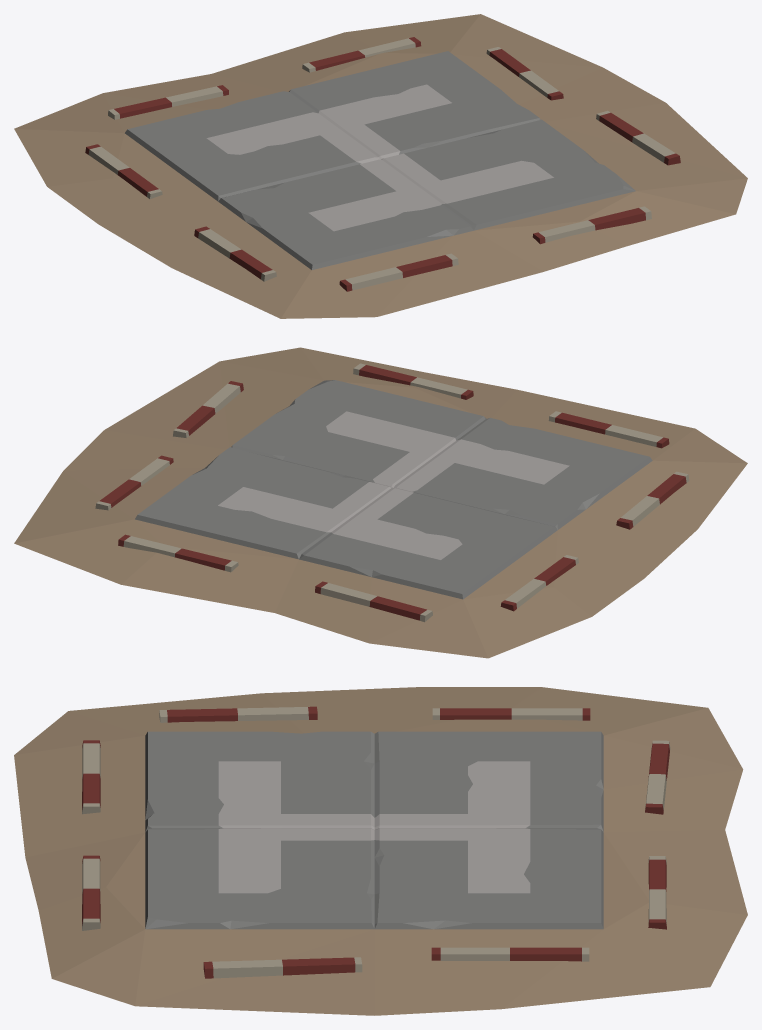
The model's file is SM_Env_Helipad_01.glb.
3 views of the same model, one above another, from view 1: azimuth 30°, elevation 25°; view 2: azimuth 150°, elevation 25°; view 3: azimuth 270°, elevation 25° (orthographic). The views are drawn at different scales.
Parts seen in each view (by area): view 1: SM_Env_Helipad_01; view 2: SM_Env_Helipad_01; view 3: SM_Env_Helipad_01.
Part boxes in pixels (bbox=[...]): SM_Env_Helipad_01: bbox=[14, 14, 747, 318]; SM_Env_Helipad_01: bbox=[14, 347, 747, 658]; SM_Env_Helipad_01: bbox=[14, 687, 747, 1015].
Size of the model in its own units: 30.52 by 0.7831 by 28.8.
1 material, 1 textured.
